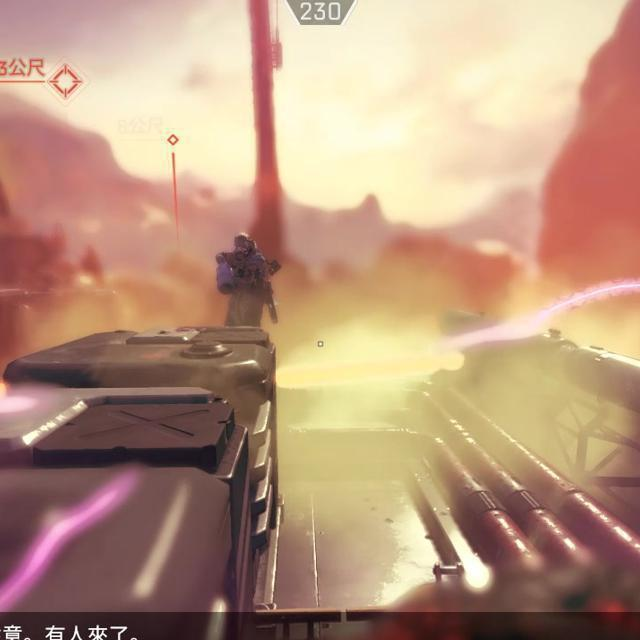avatar: (211, 232, 283, 328)
